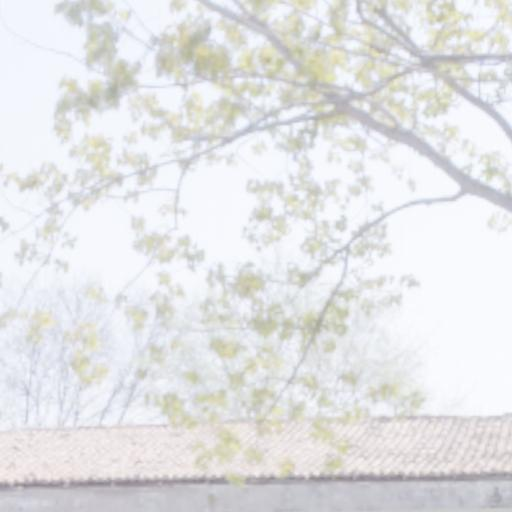nothing: (0, 1, 512, 511)
